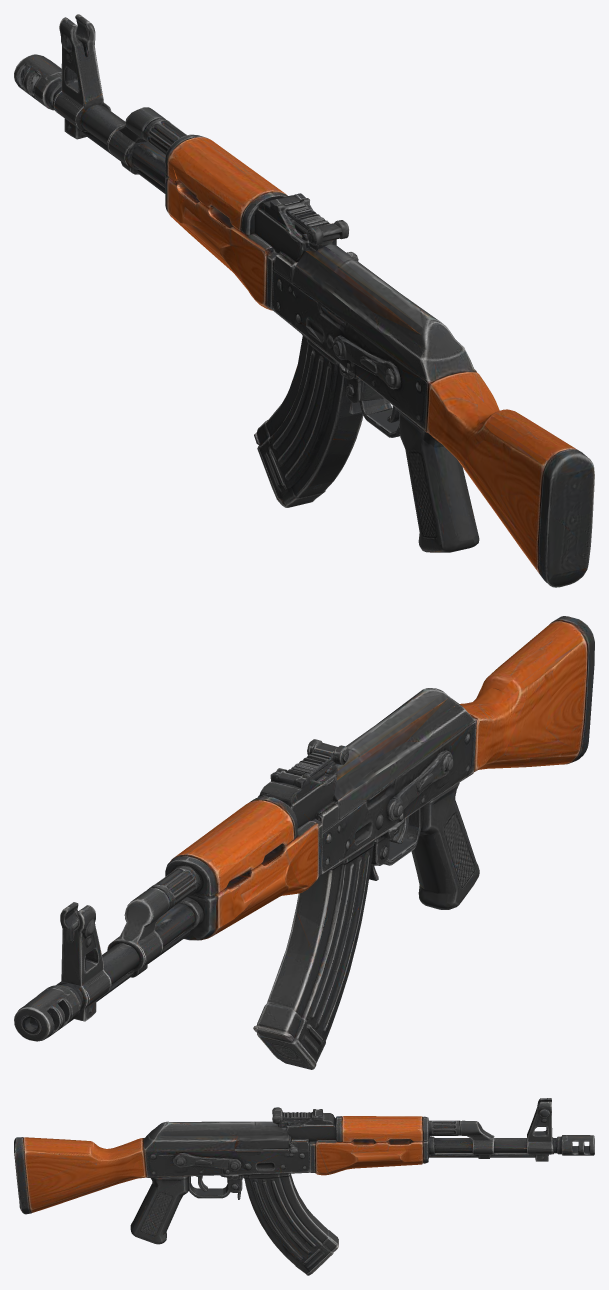
File: gewehr.glb
3 renders of one model, top to bottom at view 1: azimuth 30°, elevation 25°; view 2: azimuth 150°, elevation 25°; view 3: azimuth 270°, elevation 25°, orthographic. The views are drawn at different scales.
Parts seen in each view (by area): view 1: waffe_gewehr; view 2: waffe_gewehr; view 3: waffe_gewehr.
Boxes of the visible parts, box(x1,y1,x2,y2) form: waffe_gewehr: box(14, 14, 594, 587); waffe_gewehr: box(14, 616, 594, 1069); waffe_gewehr: box(14, 1098, 594, 1275).
Size of the model in its own units: 0.0701 by 0.2817 by 0.86.
Materials: 1 (1 with a texture image).
